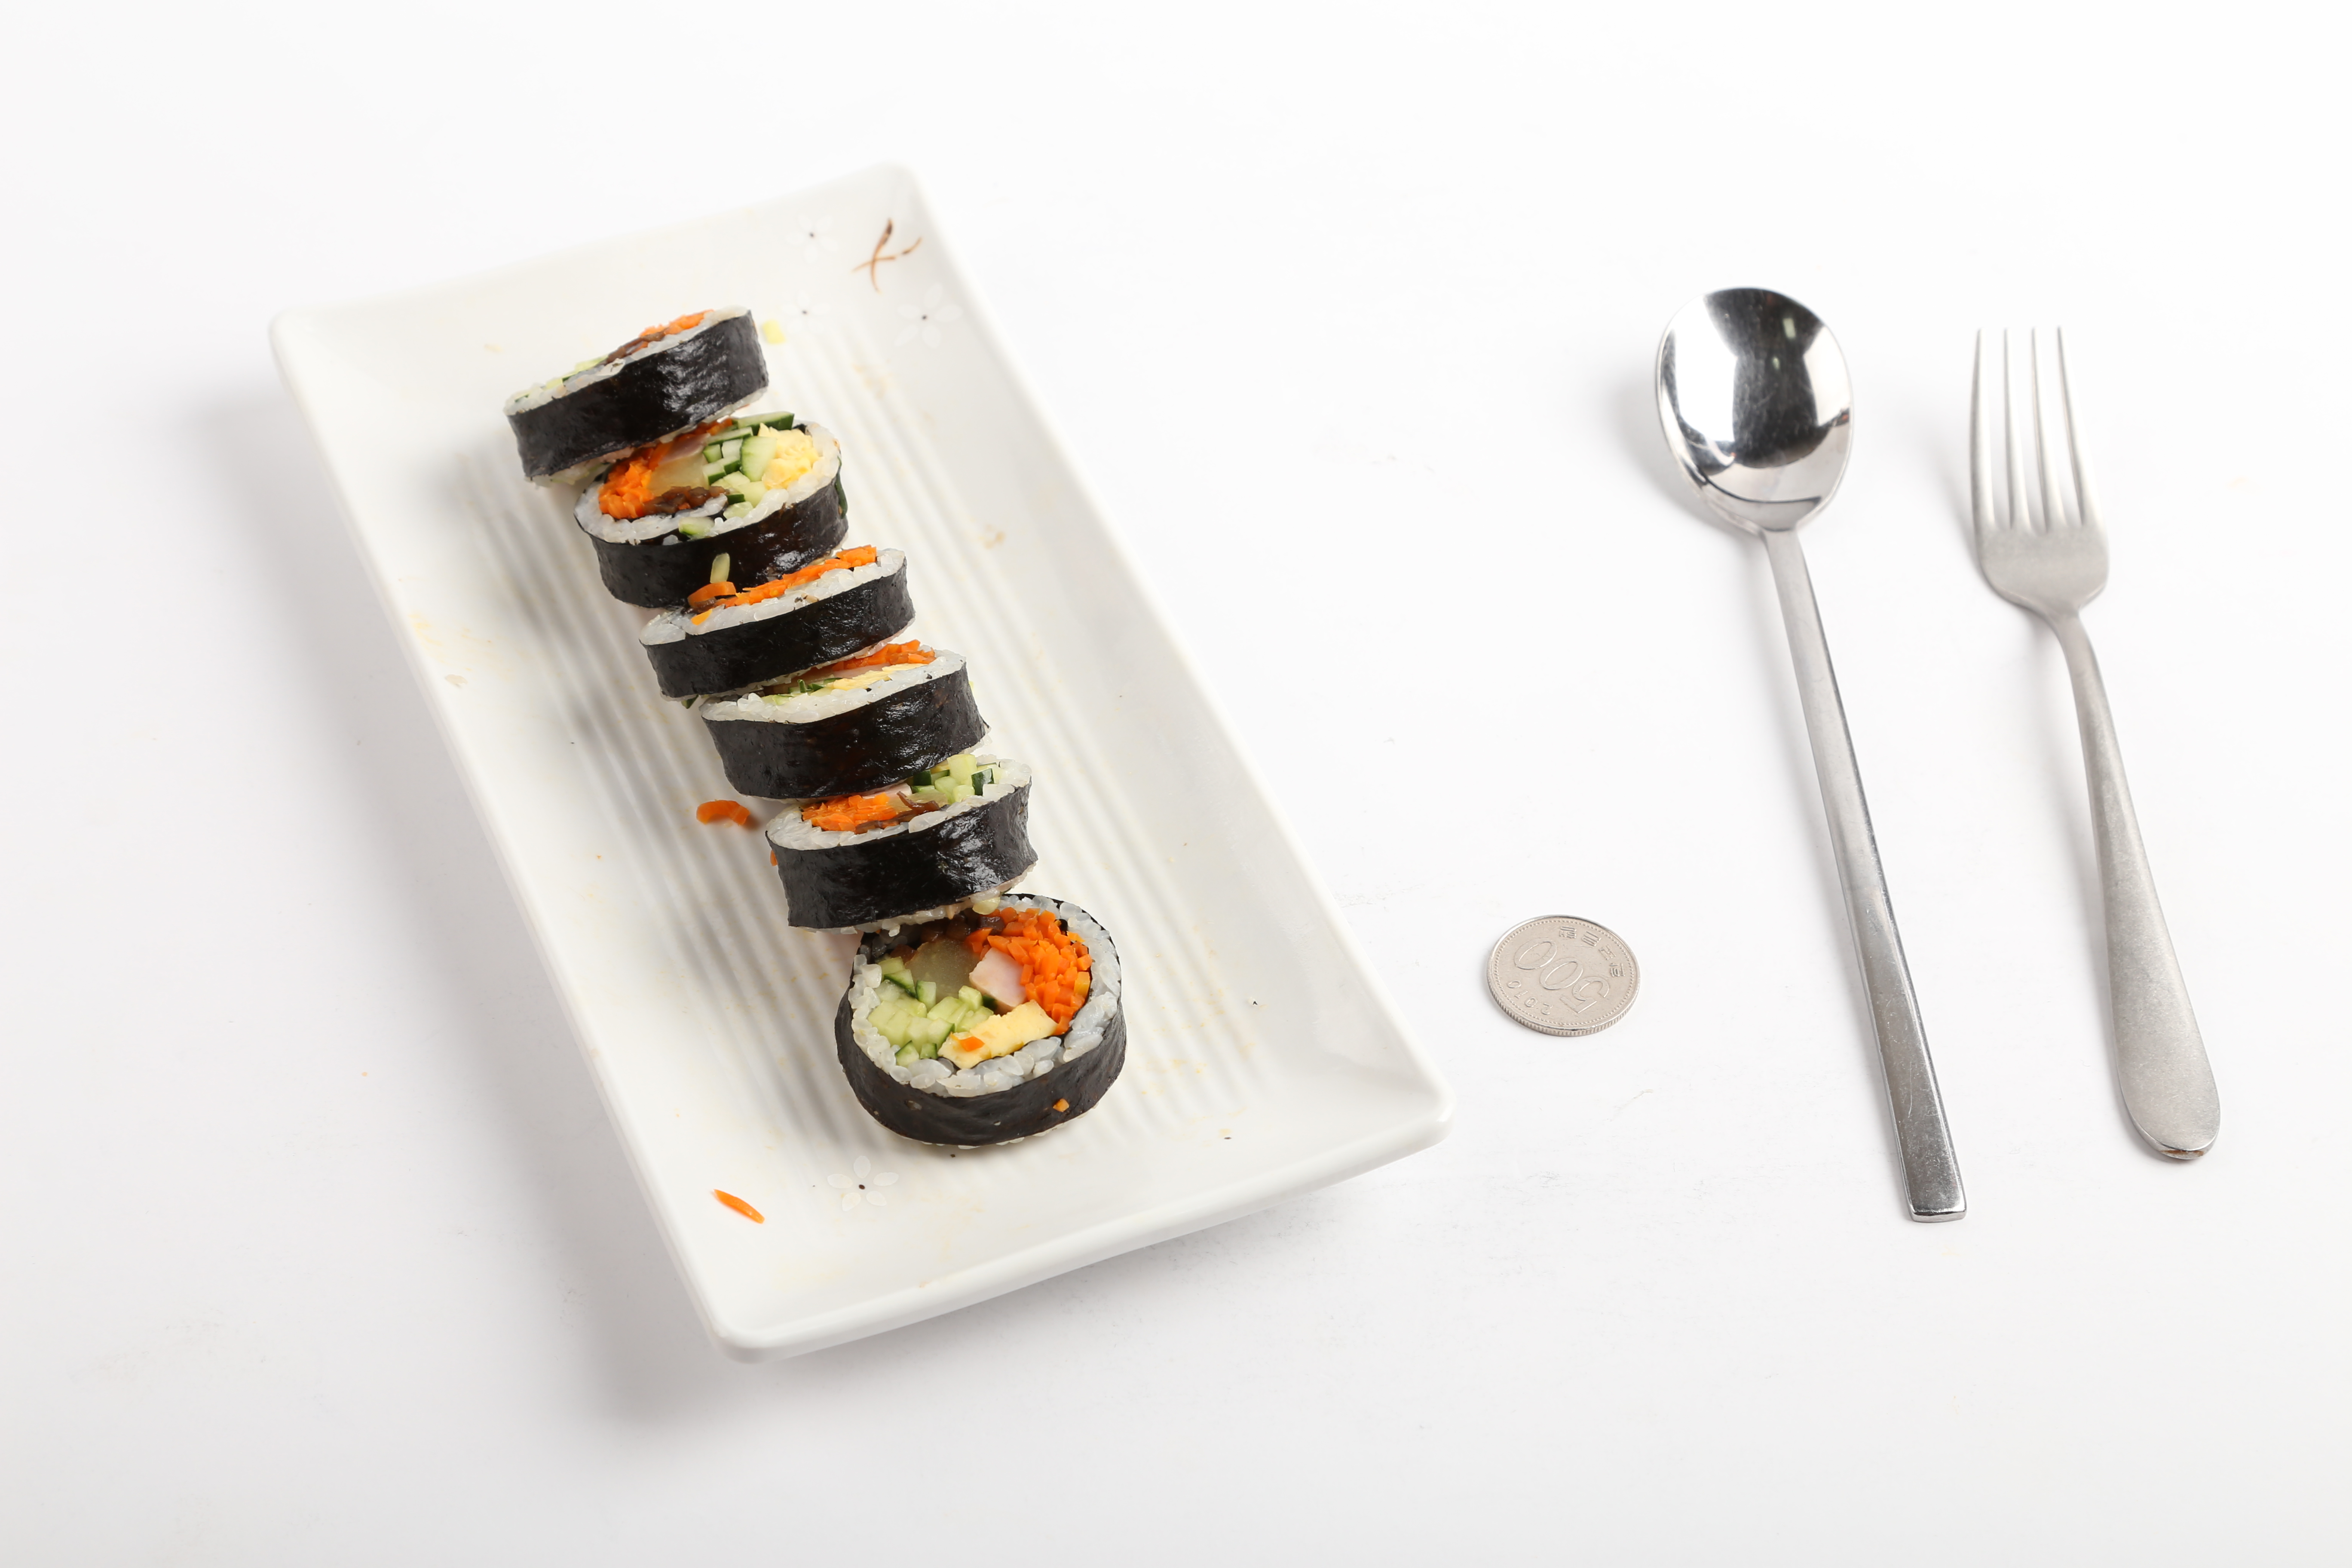dish: (261, 150, 1459, 1367)
ref_coin: (1475, 912, 1650, 1045)
ref_fork: (1960, 325, 2112, 661)
ref_spoon: (1650, 280, 1857, 614)
김밥: (506, 296, 1136, 1157)
